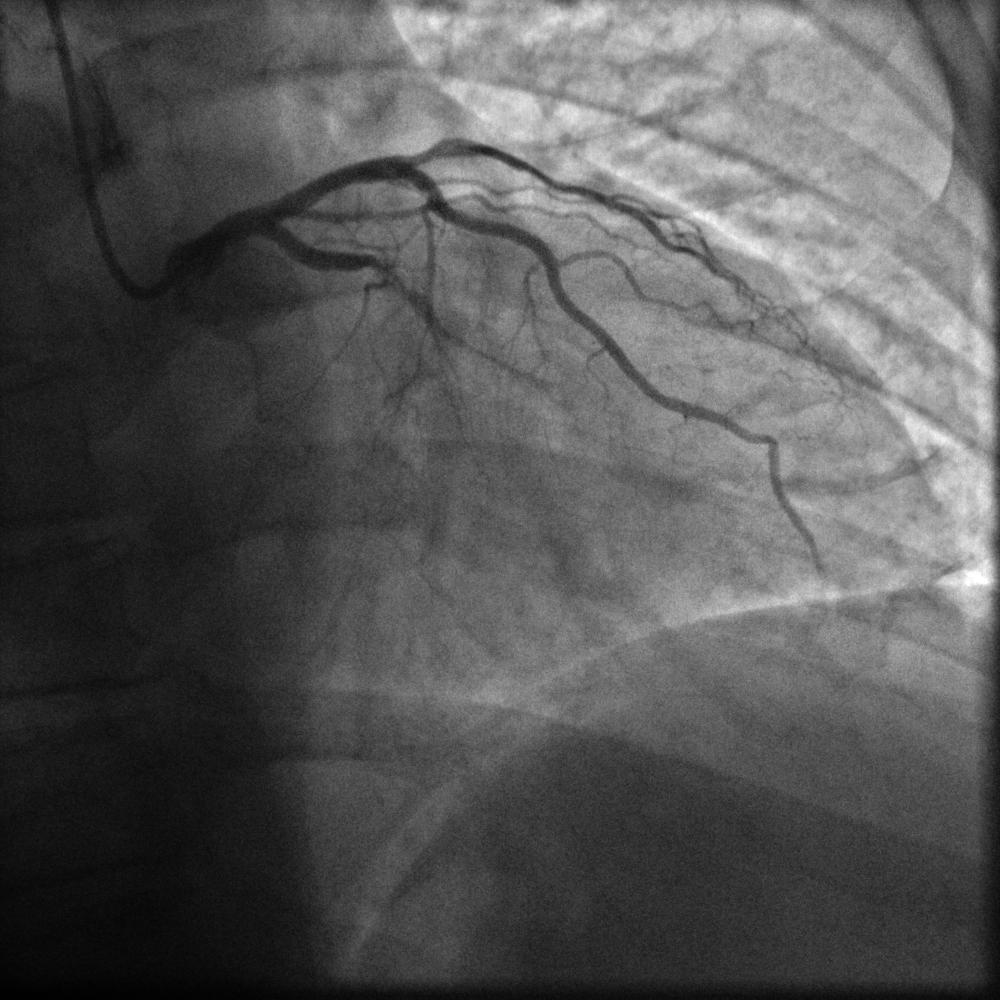Stenosis: (363, 249, 415, 299)
